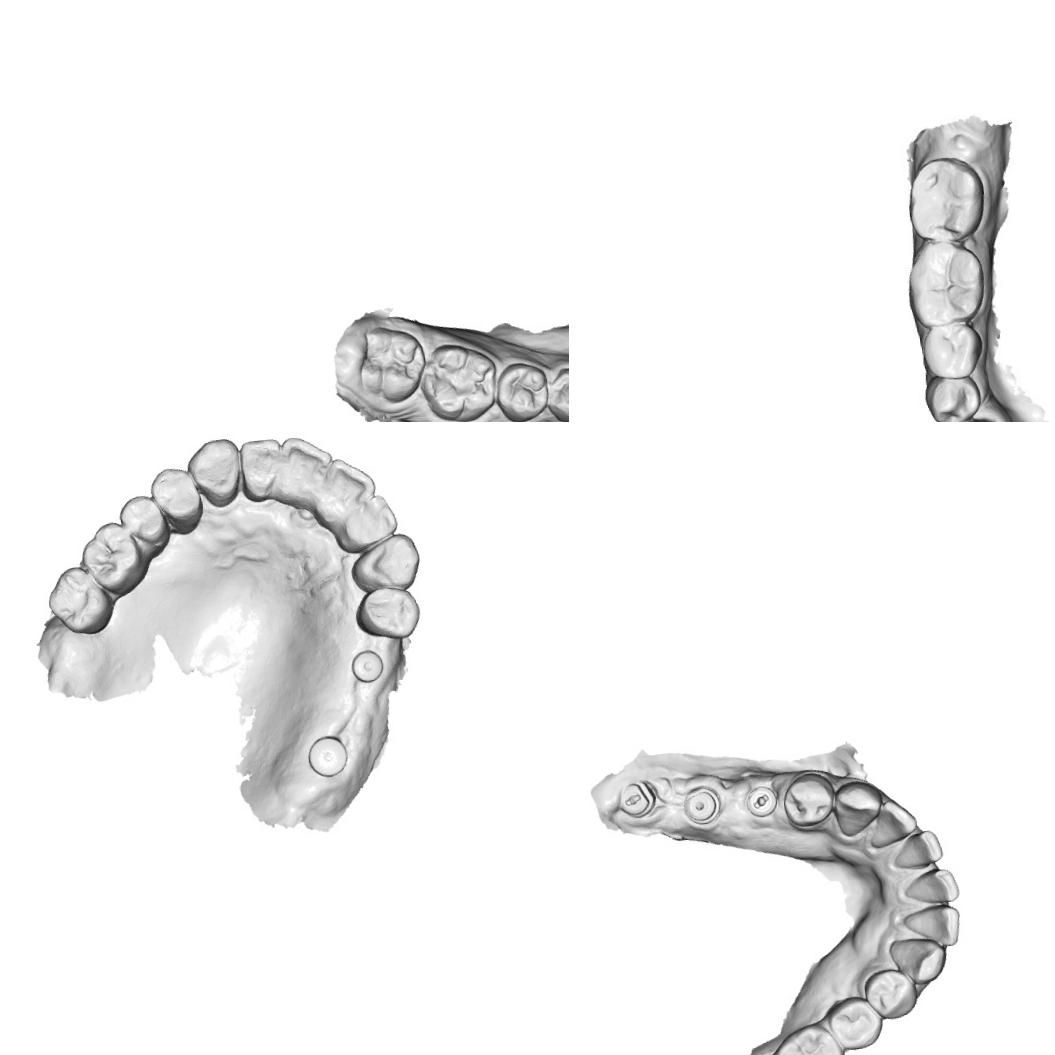canine: (183, 435, 246, 512), (348, 531, 424, 594), (830, 777, 886, 840), (888, 934, 950, 988)
implant: (303, 732, 352, 782), (678, 782, 725, 828), (348, 646, 387, 686)
implant_minus: (616, 778, 658, 822), (743, 783, 780, 820)
incisor: (272, 432, 339, 510), (311, 453, 380, 526), (334, 490, 401, 552), (235, 435, 289, 505), (864, 795, 920, 850), (901, 902, 963, 951), (890, 828, 946, 872), (901, 866, 961, 907)
molar: (903, 233, 983, 329), (416, 336, 503, 422), (352, 320, 432, 408), (76, 516, 151, 602), (42, 562, 120, 640), (904, 162, 982, 238), (770, 1019, 848, 1055)
premolar: (351, 583, 423, 644), (146, 463, 204, 533), (493, 358, 552, 422), (919, 320, 983, 378), (825, 993, 886, 1052), (780, 769, 838, 830), (114, 489, 171, 550), (861, 965, 920, 1023), (920, 372, 987, 422), (544, 361, 569, 422)
